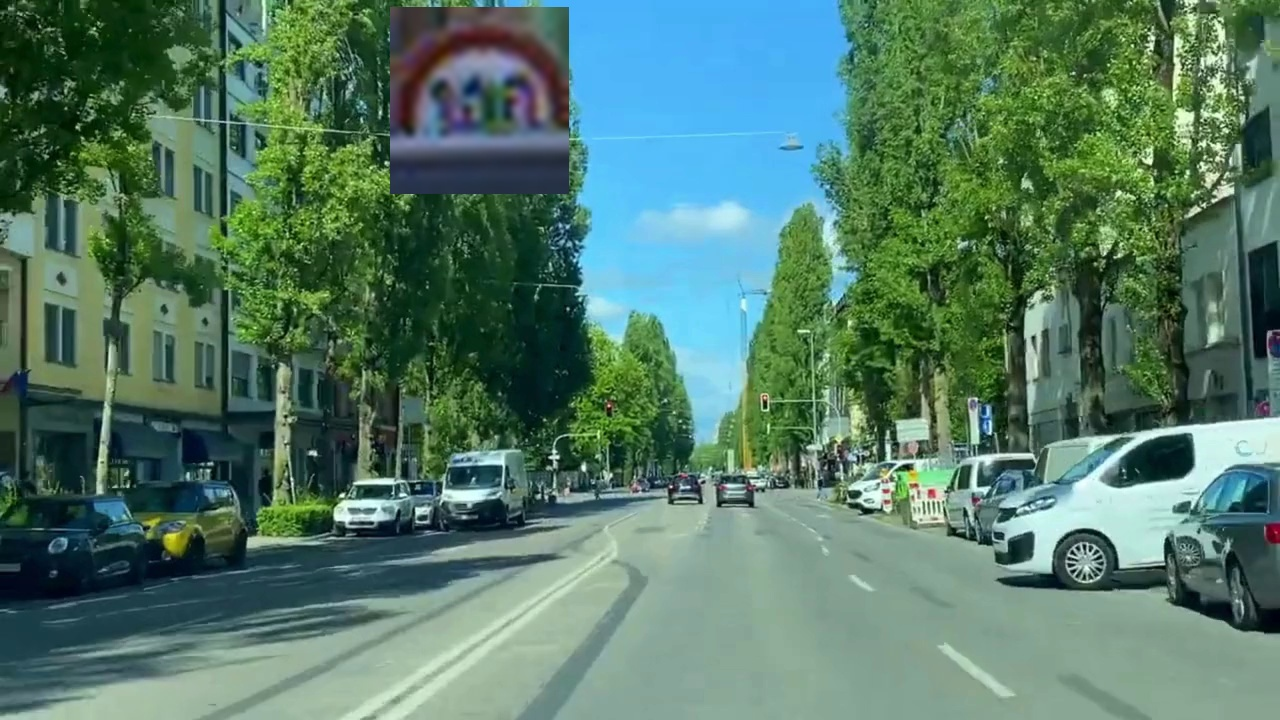Speed 100: (390, 7, 569, 194)
